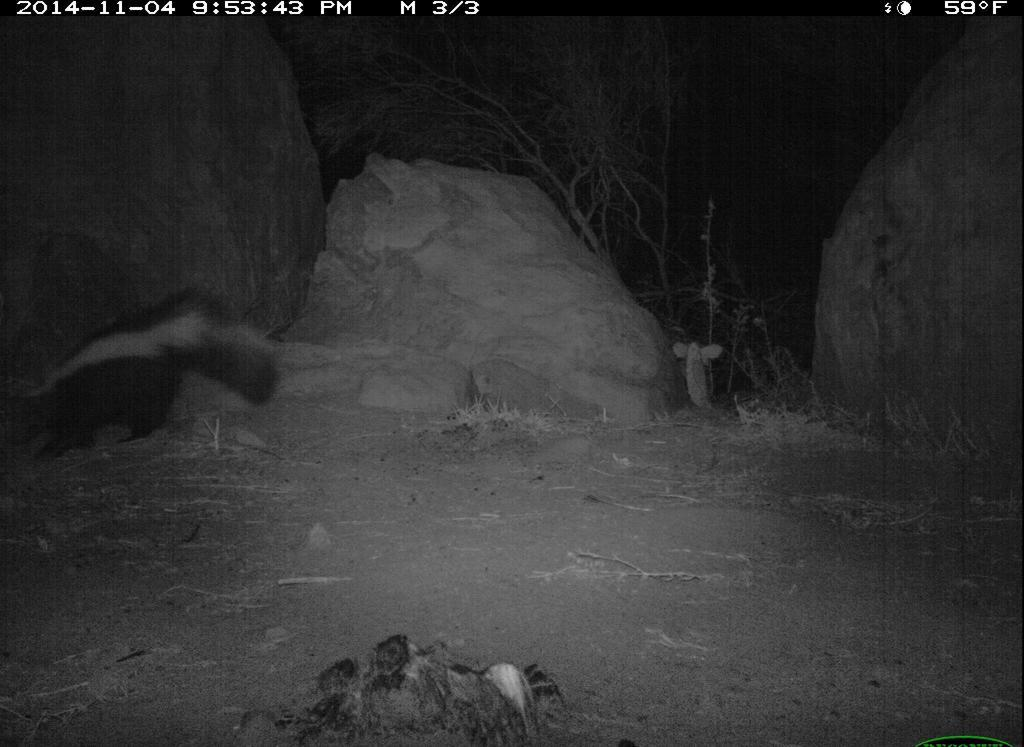skunk: (3, 285, 295, 475)
